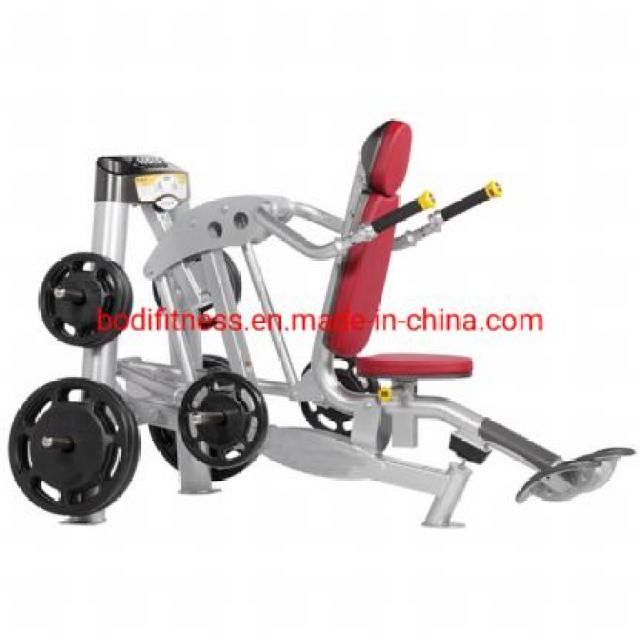seated dip machine: (11, 120, 635, 526)
